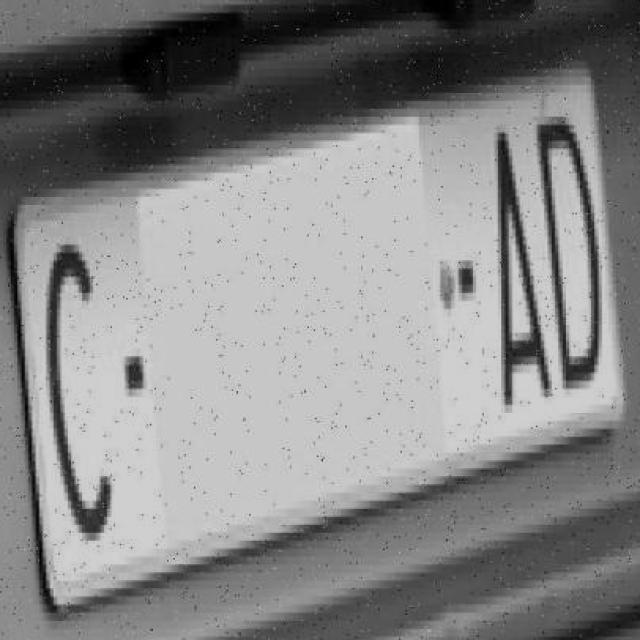licenseplate: (0, 43, 634, 613)
